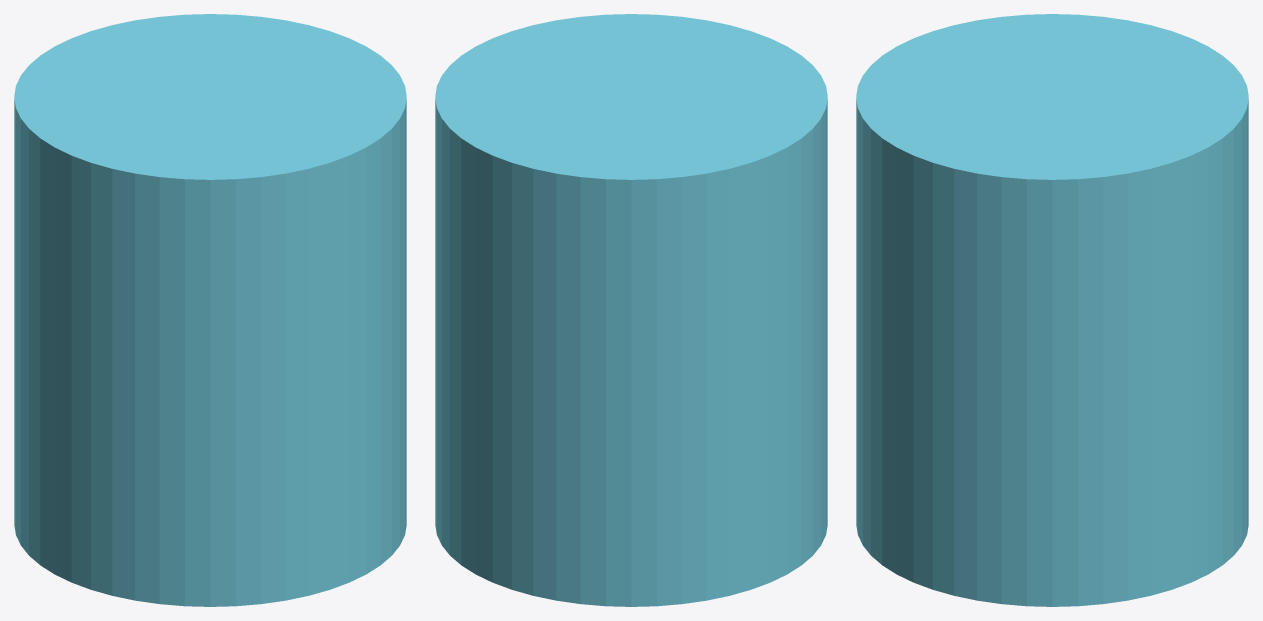
3 renders of one model, left to right at view 1: azimuth 30°, elevation 25°; view 2: azimuth 150°, elevation 25°; view 3: azimuth 270°, elevation 25°, orthographic.
Visible parts, largest first — view 1: Cylinder; view 2: Cylinder; view 3: Cylinder.
Part boxes in pixels (left/top/right/bottom): Cylinder: left=14, top=14, right=406, bottom=606; Cylinder: left=435, top=14, right=827, bottom=606; Cylinder: left=856, top=14, right=1248, bottom=606.
Size of the model in its own units: 1 by 1.2 by 1.
